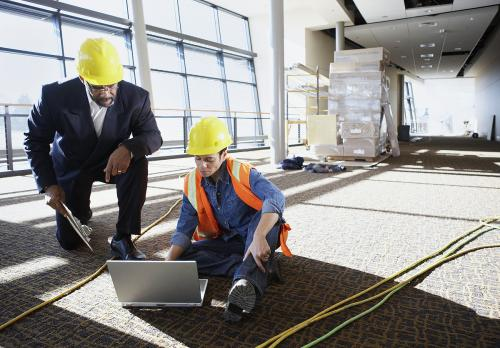boots: (222, 278, 257, 323), (110, 235, 146, 260)
hard-hat: (76, 36, 124, 86), (185, 116, 232, 156)
person: (22, 36, 163, 260), (164, 114, 287, 322)
vest: (181, 160, 277, 258)
